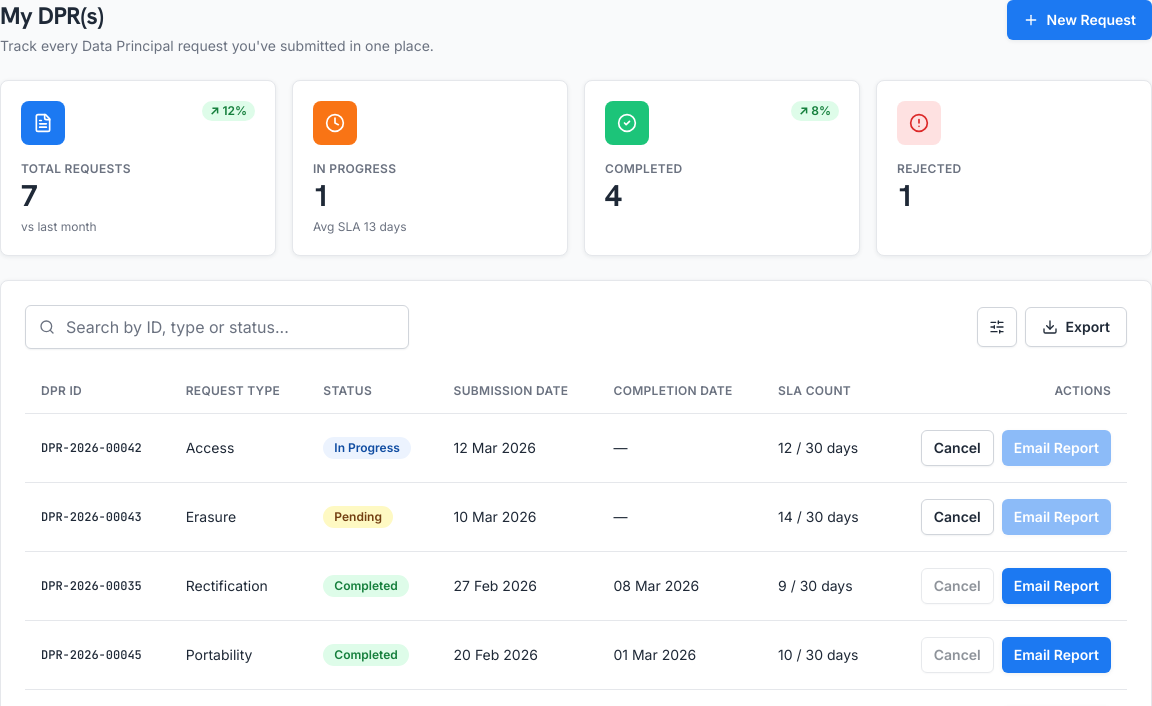
Test: RightsModule › opens the cancel dialog for an in-flight request
The image size is (1152, 706).
Click the button "Cancel" in the row of "DPR-2026-00042": (957, 448) [921,430,994,466]
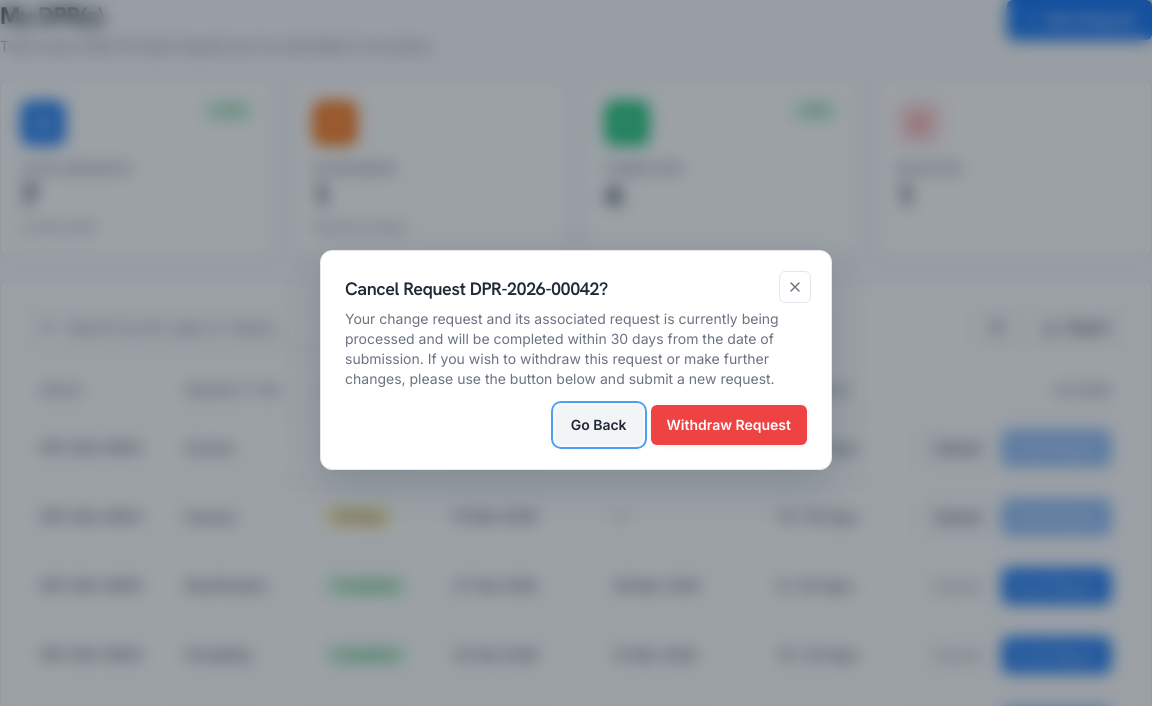
Now the dialog is shown, box [320,250,832,470]
